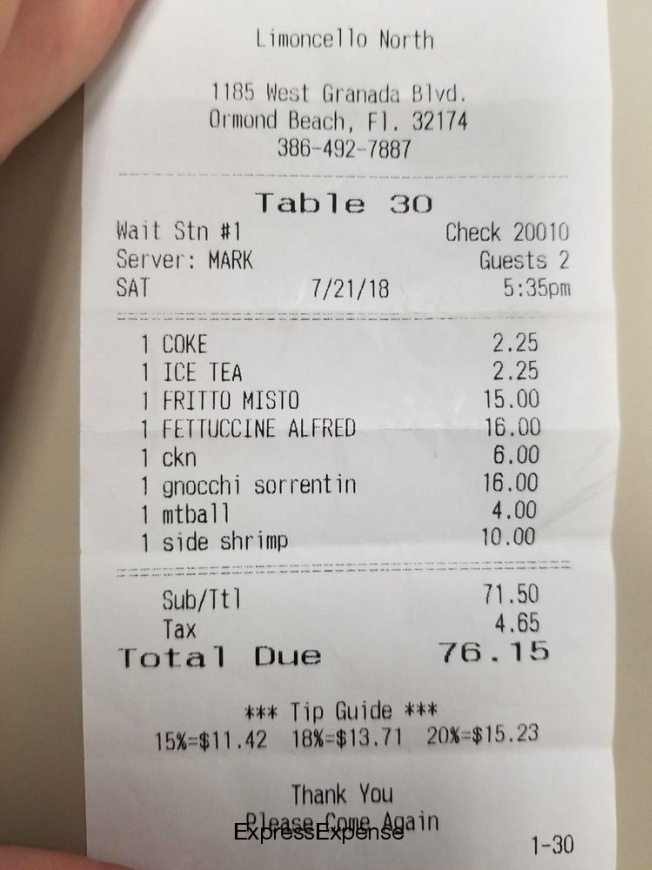Additional details: (147, 693, 552, 844)
Purchase summary: (100, 161, 577, 692)
Receipt: (80, 1, 628, 867)
Shop details: (194, 3, 484, 165)
